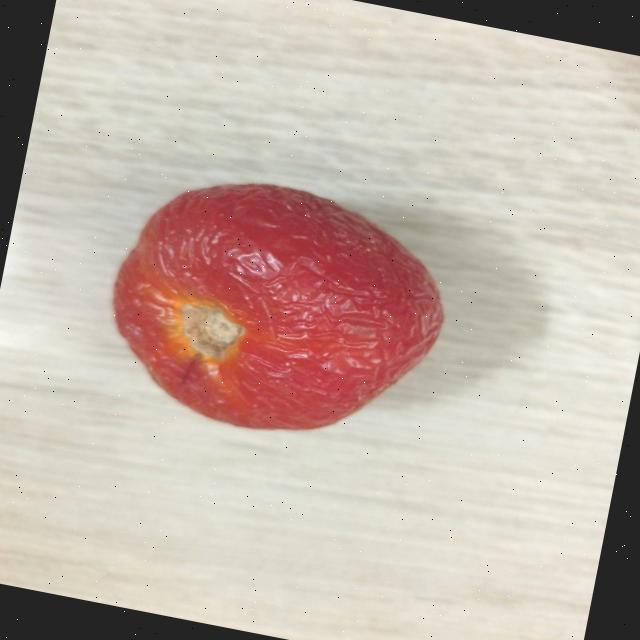overripe: (88, 154, 470, 468)
